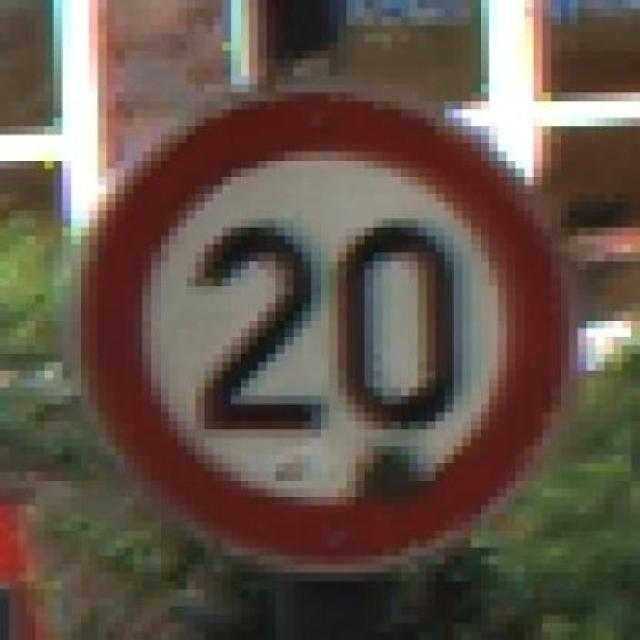forb_speed_over_20: (88, 96, 568, 567)
